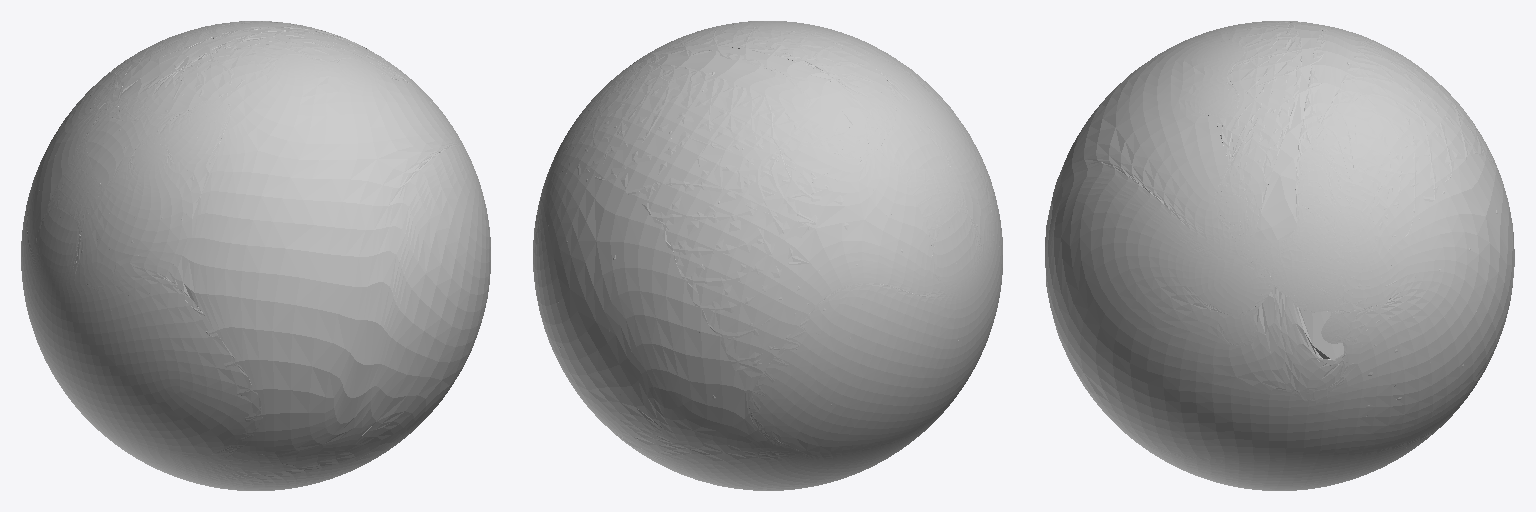
Rendered from esfera.obj.
The picture shows the model from 3 angles: view 1: azimuth 30°, elevation 25°; view 2: azimuth 150°, elevation 25°; view 3: azimuth 270°, elevation 25°; orthographic projection.
Size of the model in its own units: 2 by 2 by 2.